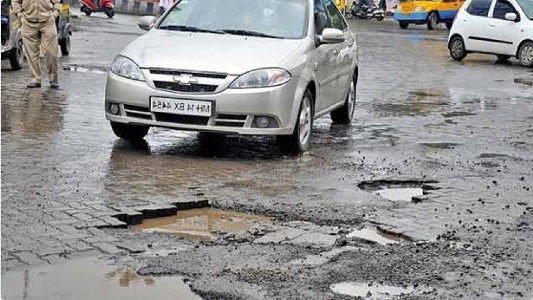pothole: (97, 195, 414, 254), (0, 254, 260, 299), (356, 174, 442, 205), (328, 279, 423, 298)
